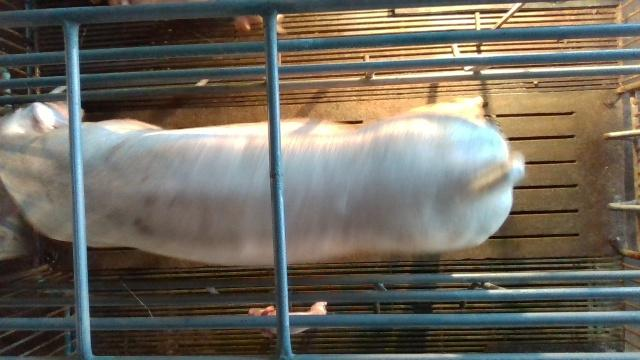piglet: (249, 301, 328, 338)
sow-stand-feed: (1, 97, 524, 267)
